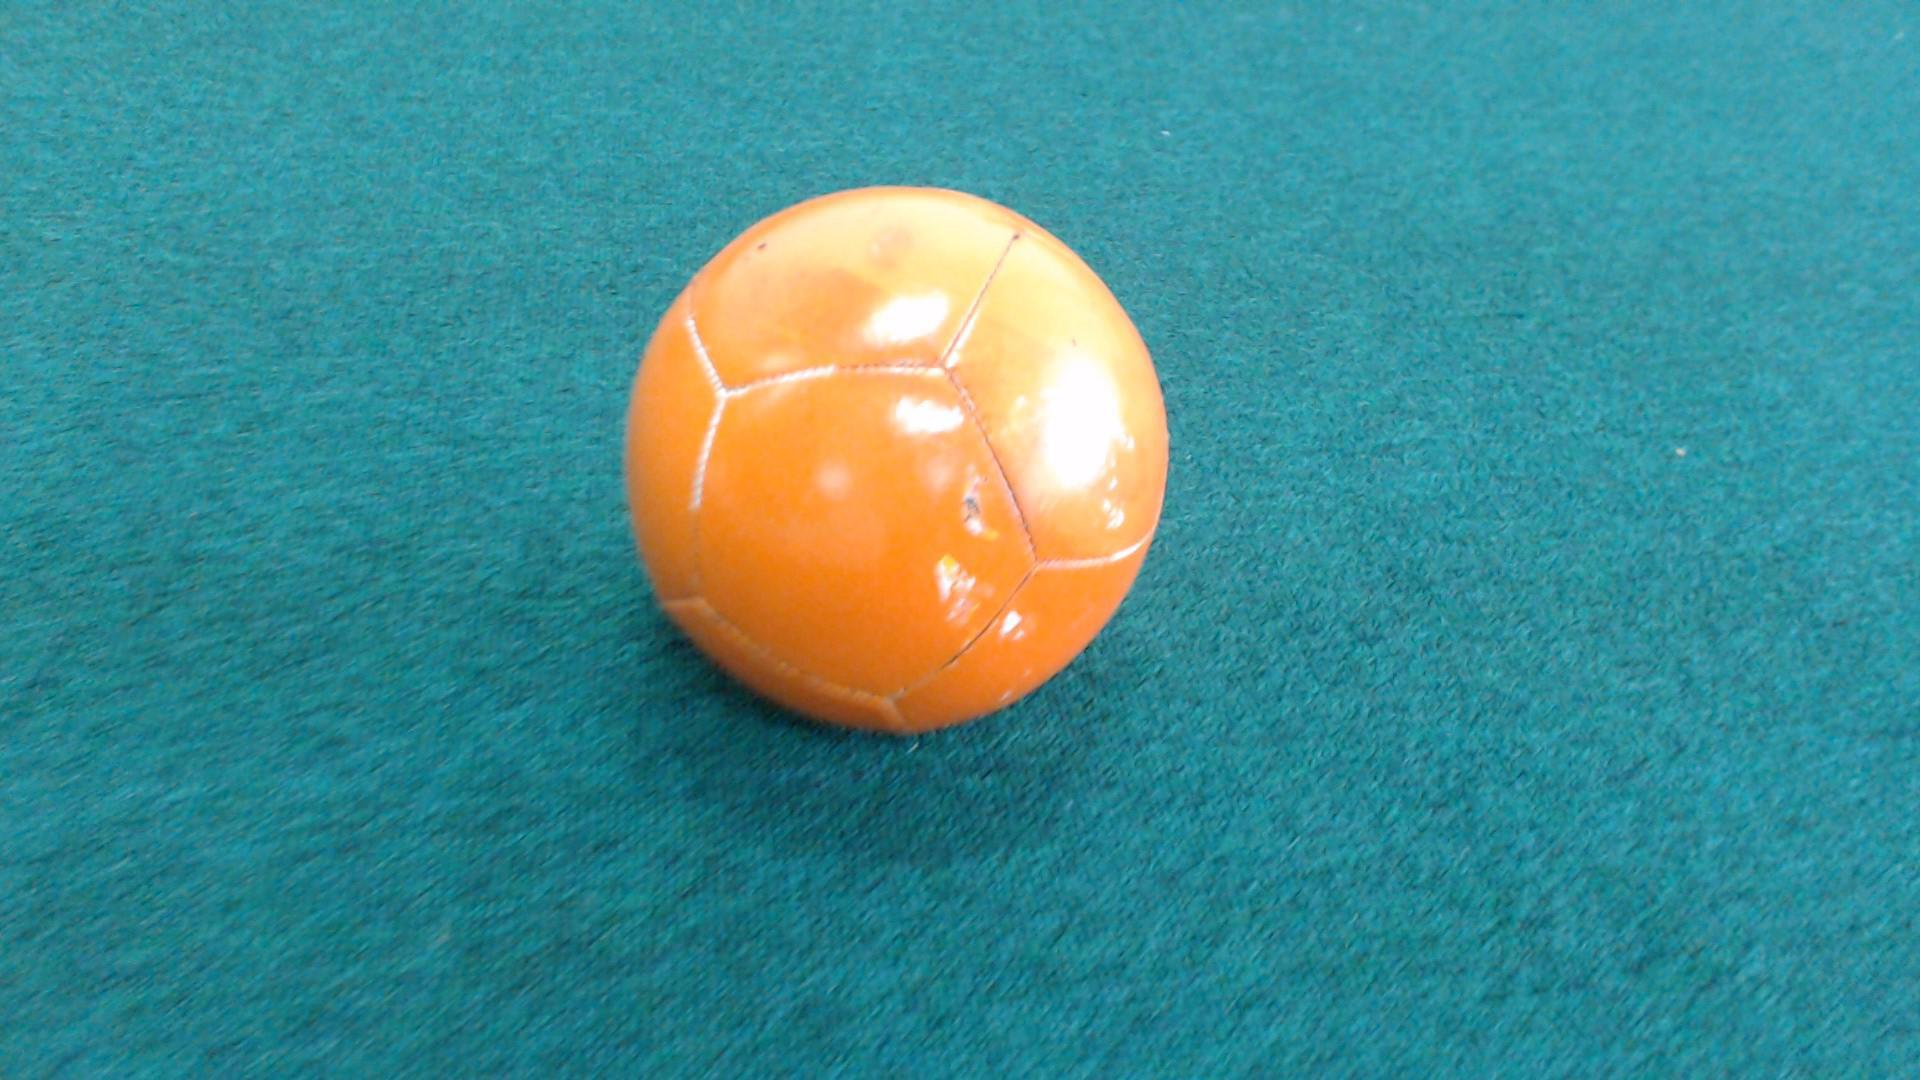bola: (582, 162, 1218, 748)
